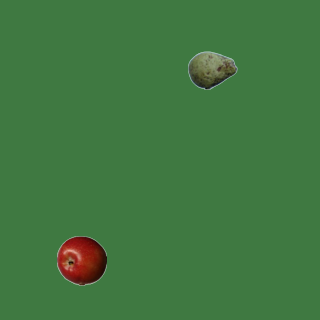Apple Braeburn: (56, 235, 106, 285)
Pear Stone: (187, 45, 237, 95)
